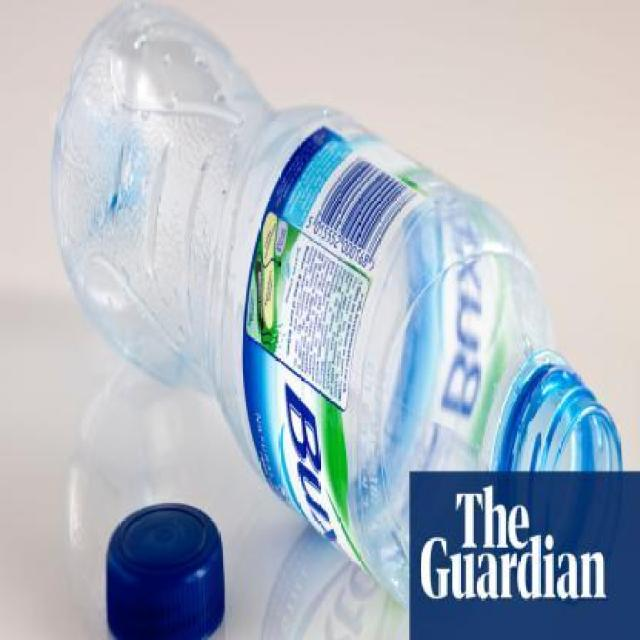bottle: (37, 0, 617, 602)
